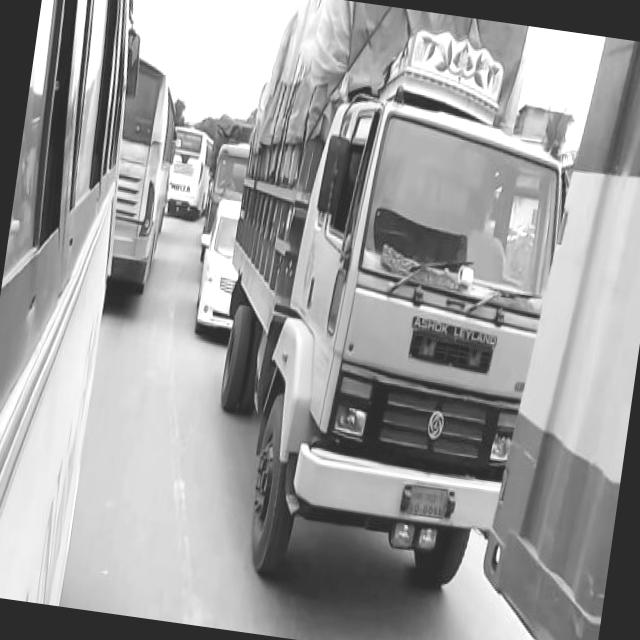bus: (0, 0, 154, 602), (97, 50, 188, 298), (162, 118, 220, 218)
car: (188, 190, 248, 340)
truck: (184, 0, 591, 623), (203, 138, 251, 238)
